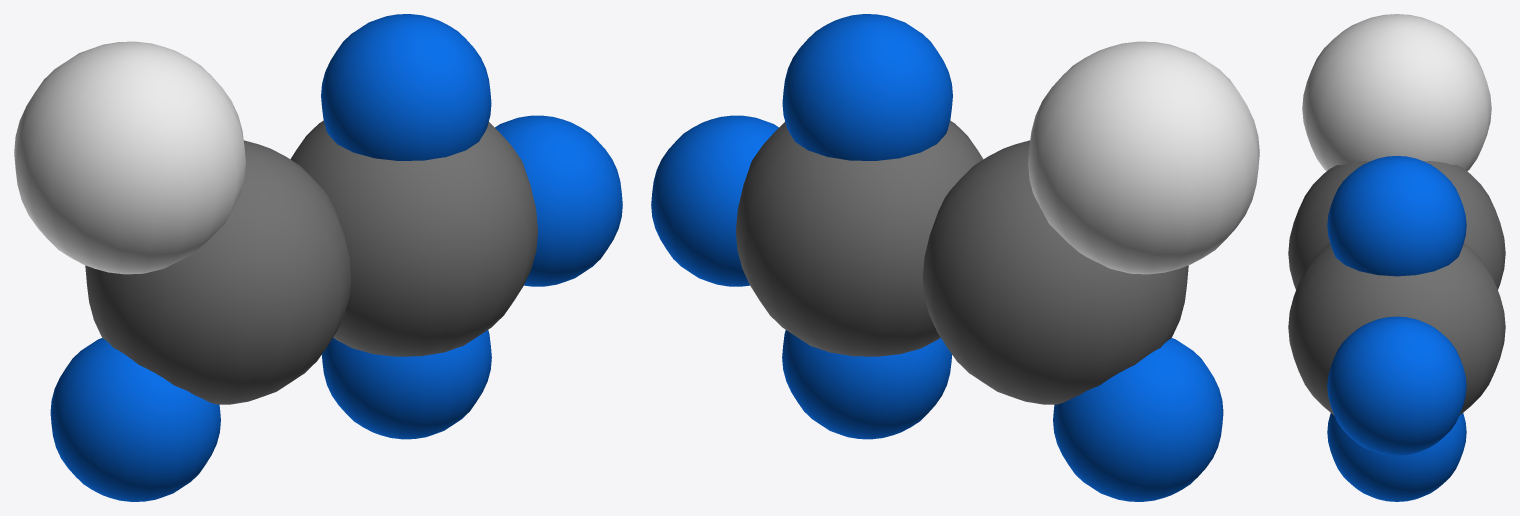
File: acetaldehydemol.fbx
3 renders of one model, left to right at view 1: azimuth 30°, elevation 25°; view 2: azimuth 150°, elevation 25°; view 3: azimuth 270°, elevation 25°, orthographic. The views are drawn at different scales.
Visible parts, largest first — view 1: Oxygen11, carbon2, carbon1, Hydrogen1, Hydrogen5, Hydrogen4, Hydrogen3; view 2: Oxygen11, carbon2, carbon1, Hydrogen1, Hydrogen5, Hydrogen4, Hydrogen3; view 3: Oxygen11, carbon1, Hydrogen4, Hydrogen1, carbon2, Hydrogen3.
Part boxes in pixels (<box>): Oxygen11: <box>14,41,245,274</box>; carbon2: <box>85,140,350,404</box>; carbon1: <box>290,120,537,356</box>; Hydrogen1: <box>321,14,491,160</box>; Hydrogen5: <box>50,338,220,501</box>; Hydrogen4: <box>495,115,622,286</box>; Hydrogen3: <box>322,330,491,439</box>; Oxygen11: <box>1028,41,1259,274</box>; carbon2: <box>923,140,1188,404</box>; carbon1: <box>736,120,983,356</box>; Hydrogen1: <box>782,14,952,160</box>; Hydrogen5: <box>1053,338,1223,501</box>; Hydrogen4: <box>651,115,778,286</box>; Hydrogen3: <box>782,330,951,439</box>; Oxygen11: <box>1302,14,1491,171</box>; carbon1: <box>1288,243,1505,415</box>; Hydrogen4: <box>1327,316,1466,455</box>; Hydrogen1: <box>1327,156,1466,276</box>; carbon2: <box>1288,161,1505,289</box>; Hydrogen3: <box>1327,413,1466,501</box>.
Bounding box in the file's own units: 7.48 × 5.48 × 2.98.
